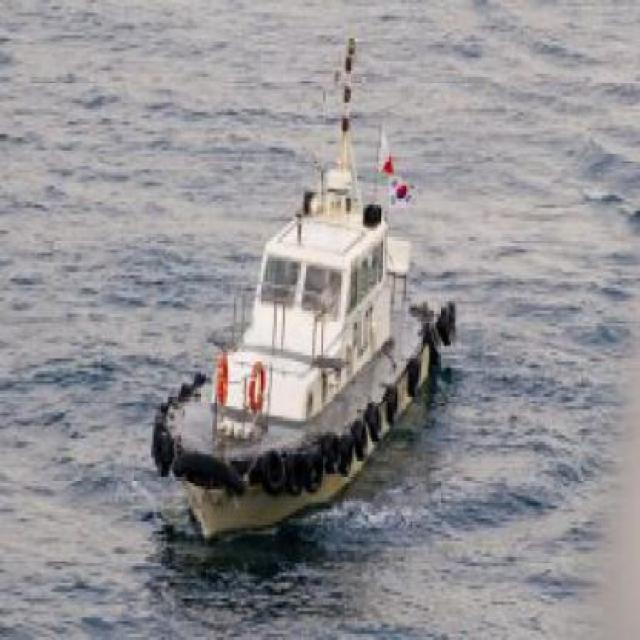fish-b: (137, 33, 471, 574)
